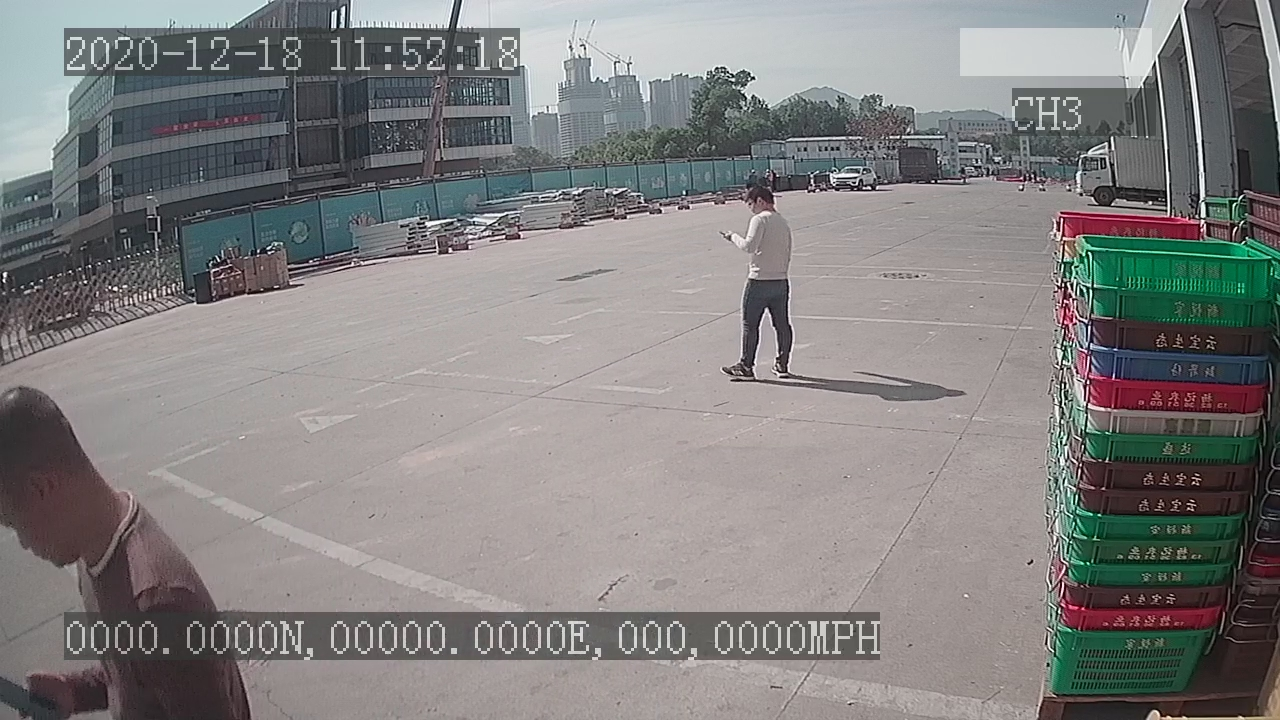person: (709, 181, 799, 390)
